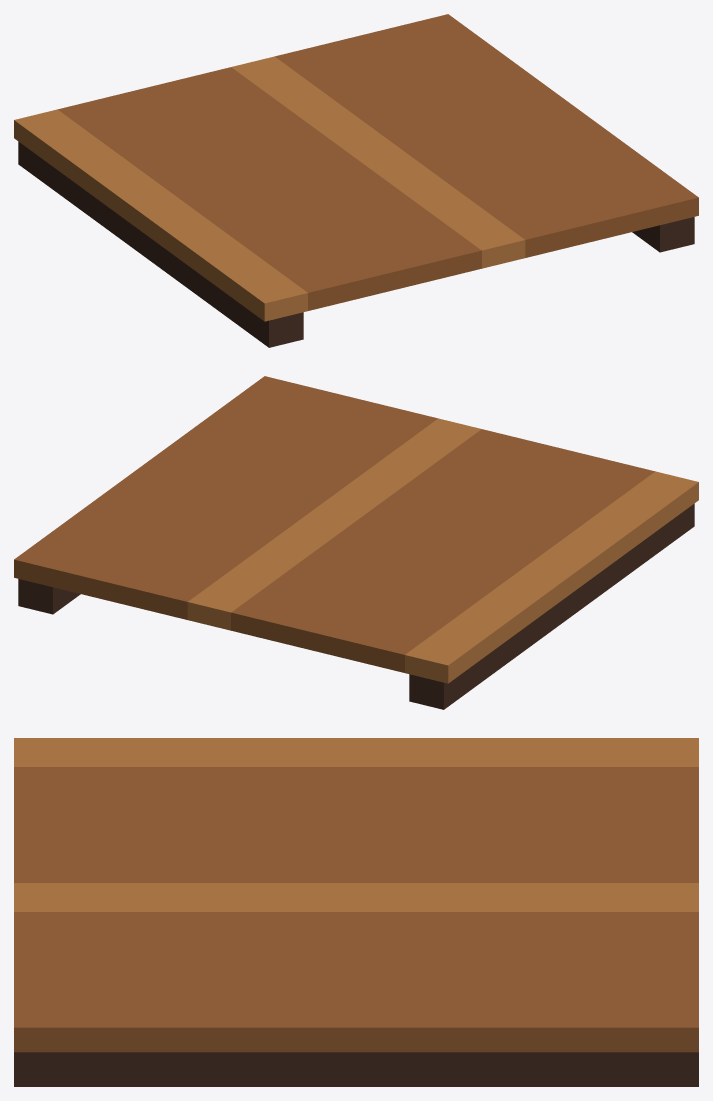
The model's file is 861_plain_planked_floor_tile.fbx.
3 views of the same model, one above another, from view 1: azimuth 30°, elevation 25°; view 2: azimuth 150°, elevation 25°; view 3: azimuth 270°, elevation 25° (orthographic). The views are drawn at different scales.
Parts seen in each view (by area): view 1: 861_plain_planked_floor_tile; view 2: 861_plain_planked_floor_tile; view 3: 861_plain_planked_floor_tile.
Boxes of the visible parts, x1=… form: 861_plain_planked_floor_tile: x1=14, y1=14, x2=698, y2=347; 861_plain_planked_floor_tile: x1=14, y1=376, x2=698, y2=709; 861_plain_planked_floor_tile: x1=14, y1=738, x2=698, y2=1086.
Size of the model in its own units: 2 by 0.2 by 2.
1 material, 1 textured.
